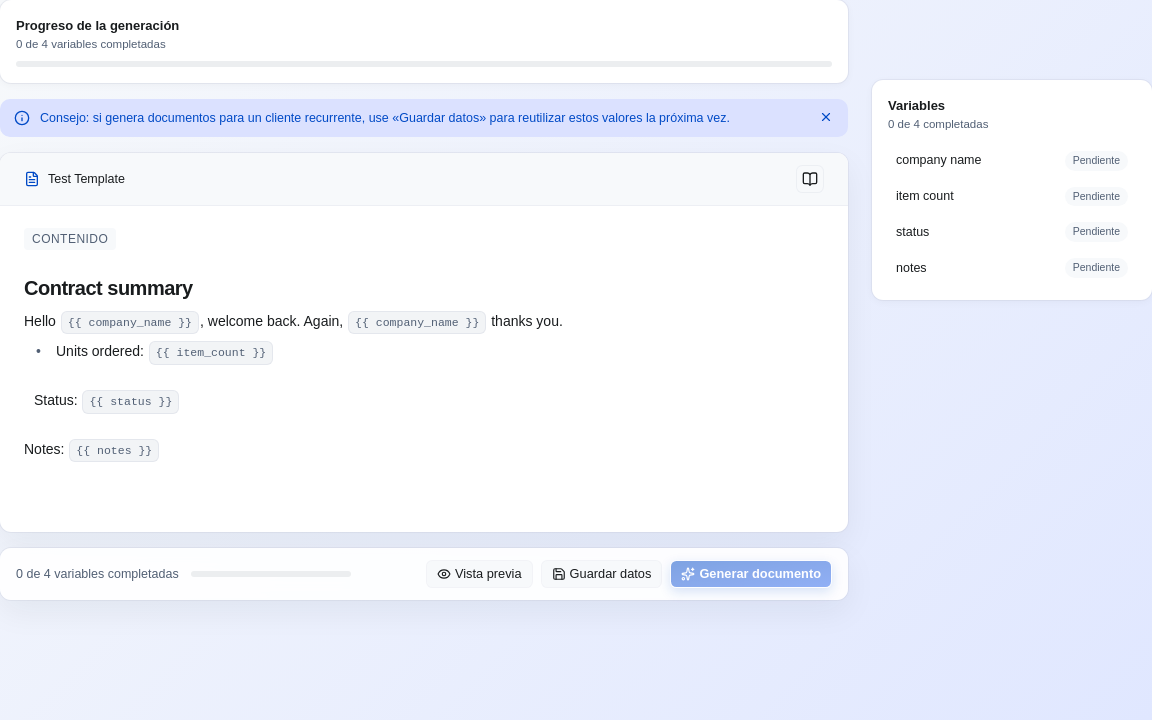
Test case: FullDocumentEditor — inline pill editing › 4. blur commits without advancing
Click the 1st button "{{ company_name }}" at {"x": 130, "y": 323}, box [61,311,199,334]
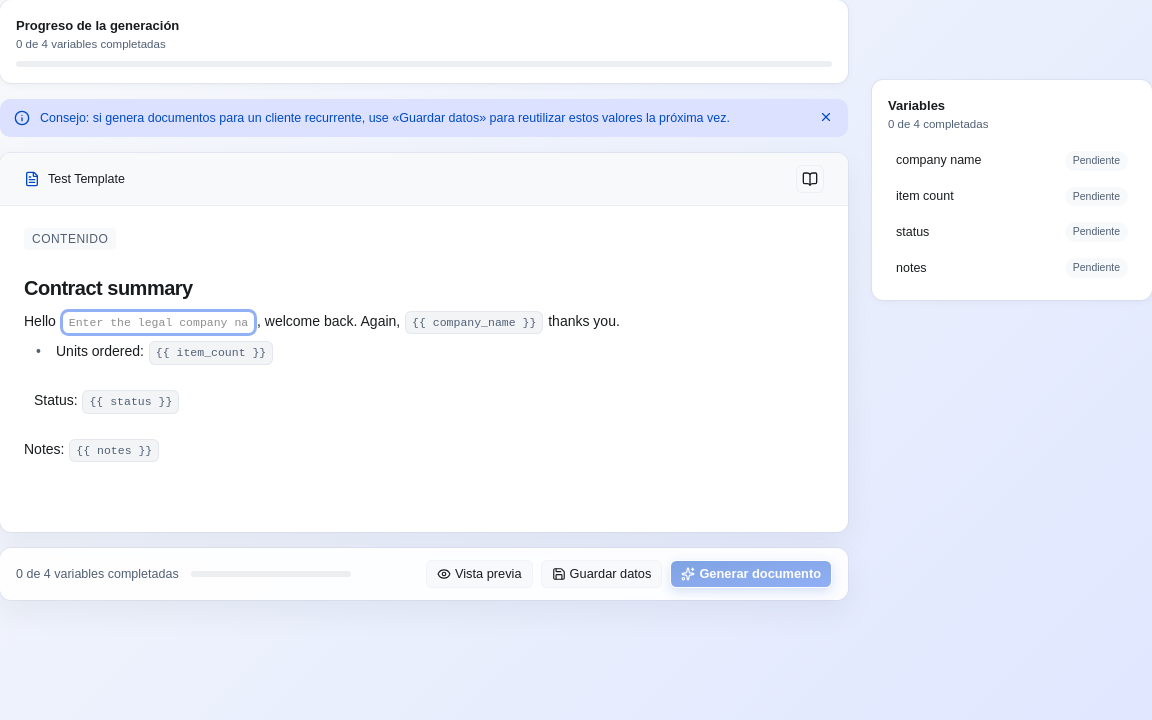
Type "Beta LLC" into the field at {"x": 158, "y": 323}, box [62,311,255,334]
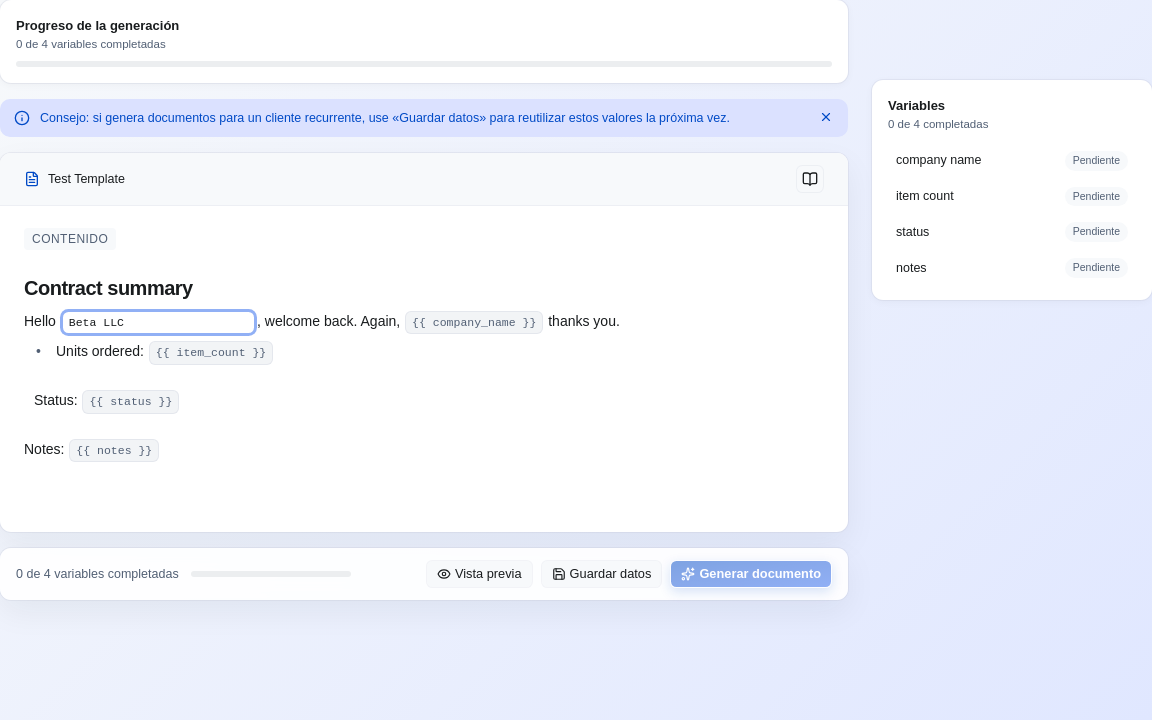
Leave the field, box [62,311,255,334]
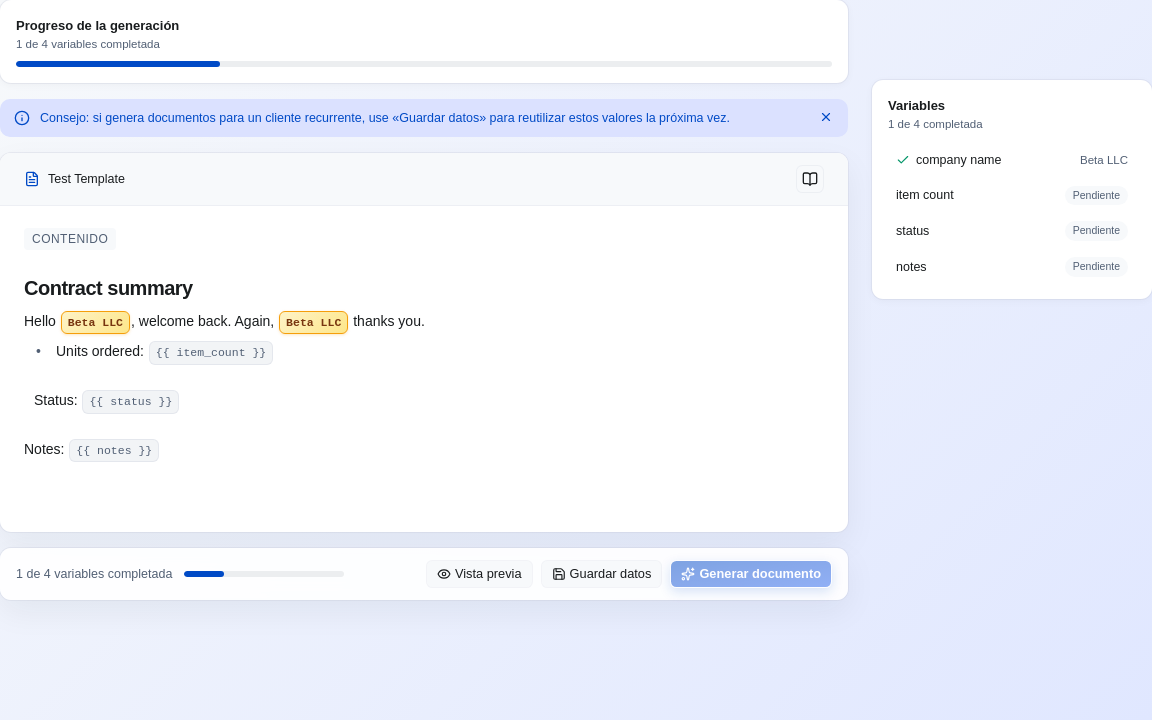
Expected: the number of buttons "Beta LLC" is 3, [61,311,130,334]; [279,311,348,334]; [1080,152,1128,169]
Expected: no fields are shown
